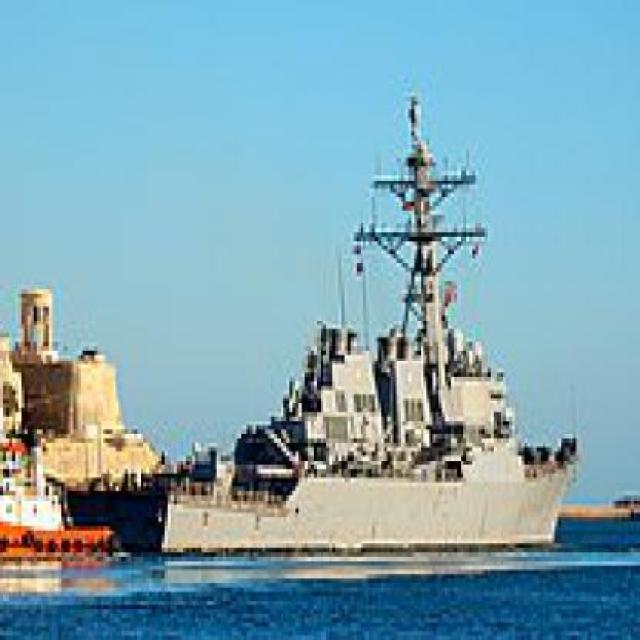warship2: (62, 80, 580, 567)
